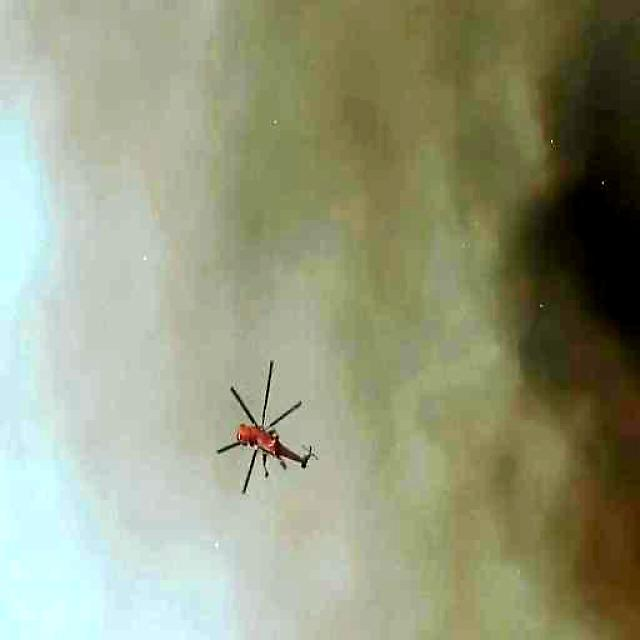drone: (212, 359, 318, 505)
